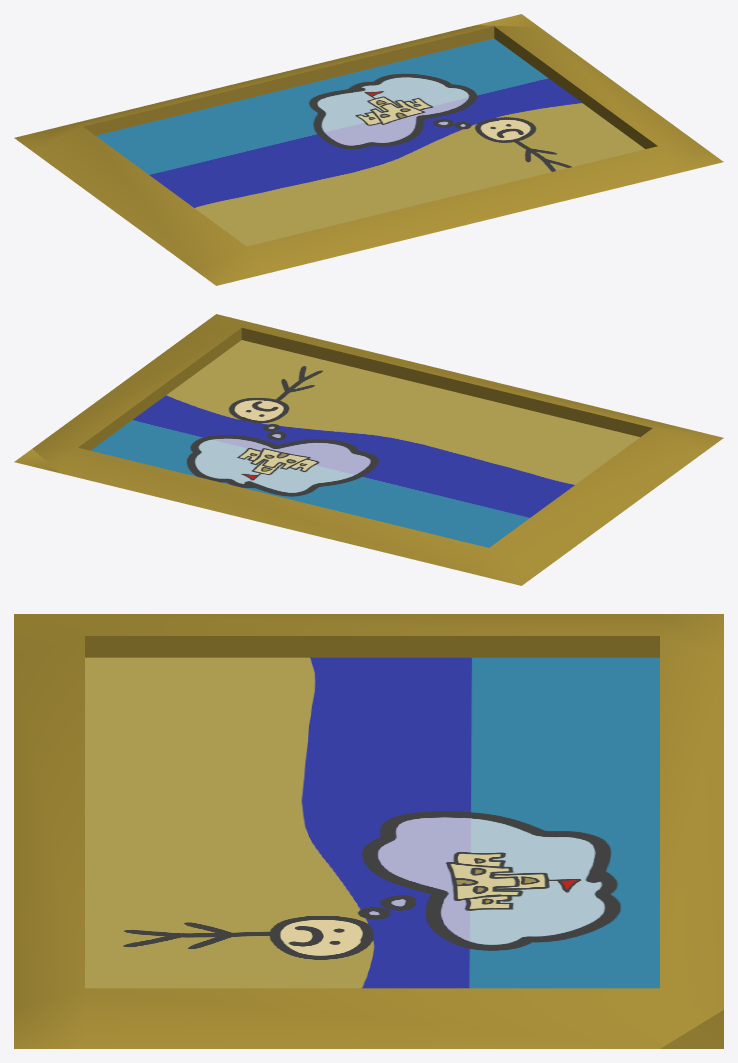
The model's file is SummerPainting.fbx.
The picture shows the model from 3 angles, top to bottom: view 1: azimuth 30°, elevation 25°; view 2: azimuth 150°, elevation 25°; view 3: azimuth 270°, elevation 25°; orthographic projection. The views are drawn at different scales.
Parts seen in each view (by area): view 1: pPlane1, pCube1; view 2: pPlane1, pCube1; view 3: pPlane1, pCube1.
Part boxes in pixels (x1,y1,x2,y2): pPlane1: (96, 38, 644, 246); pCube1: (14, 14, 723, 285); pPlane1: (91, 340, 639, 547); pCube1: (14, 314, 723, 585); pPlane1: (85, 657, 659, 988); pCube1: (14, 614, 723, 1048).
Size of the model in its own units: 9.35 by 0.4312 by 6.45.
2 materials, 1 textured.
